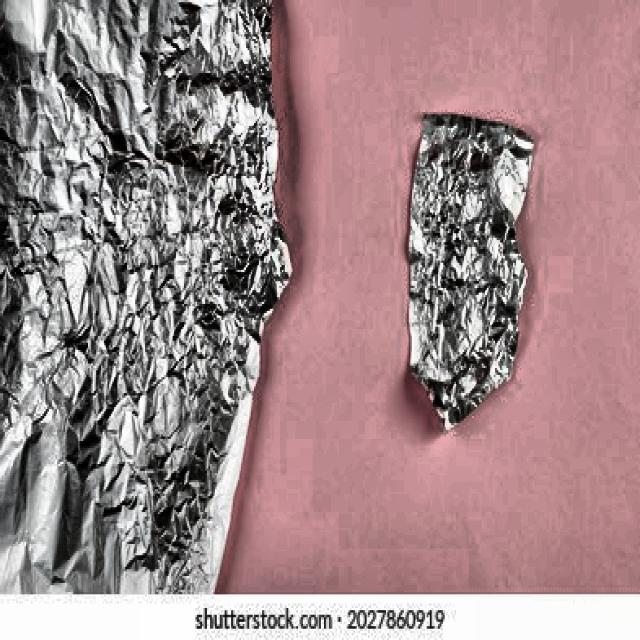Foil: (0, 0, 301, 592), (380, 89, 550, 446)
